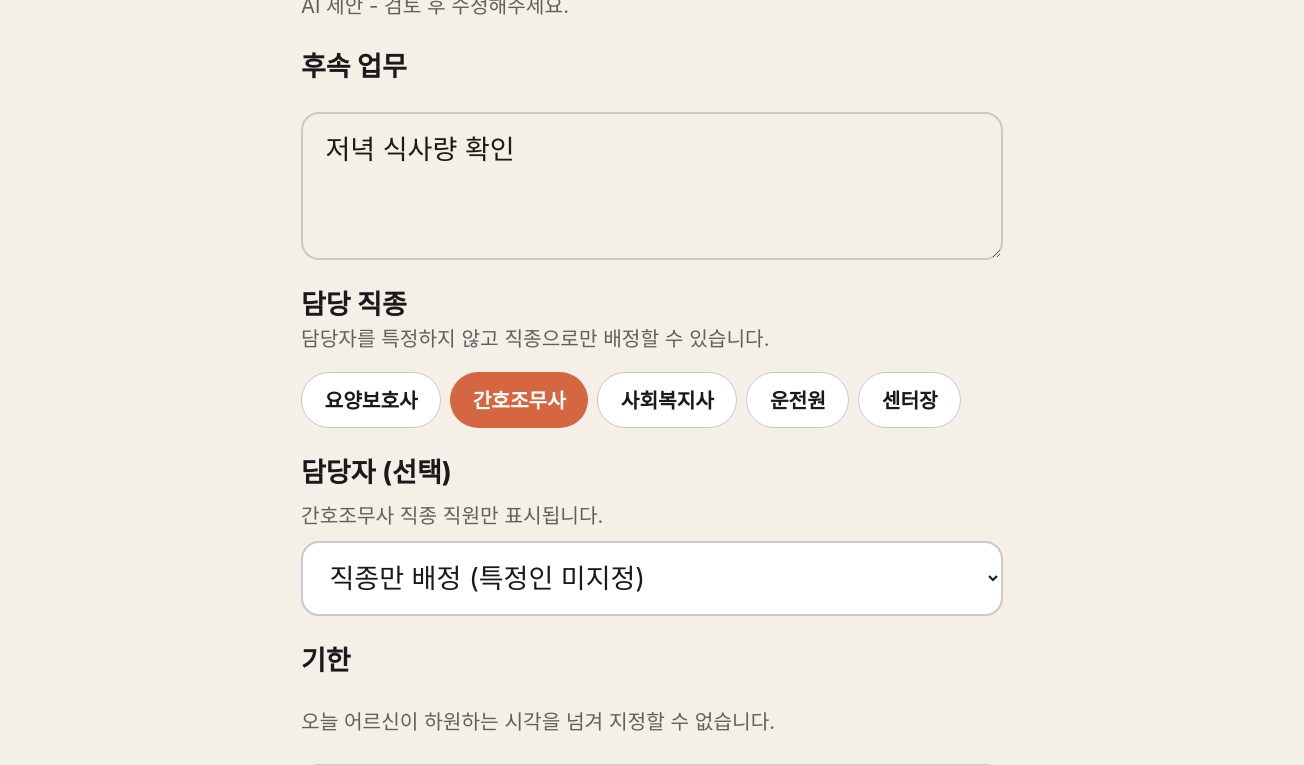
후속 업무 배정 (n26 → n27 · n28 · n29 · n30) › 직종을 바꾸면 해당 직종의 직원 목록으로 바뀌고 직원을 골라 배정할 수 있다
(page scrolled)
# 요양보호사 버튼 클릭
Click the button "요양보호사". click: (371, 400)
box: [301,372,441,428]
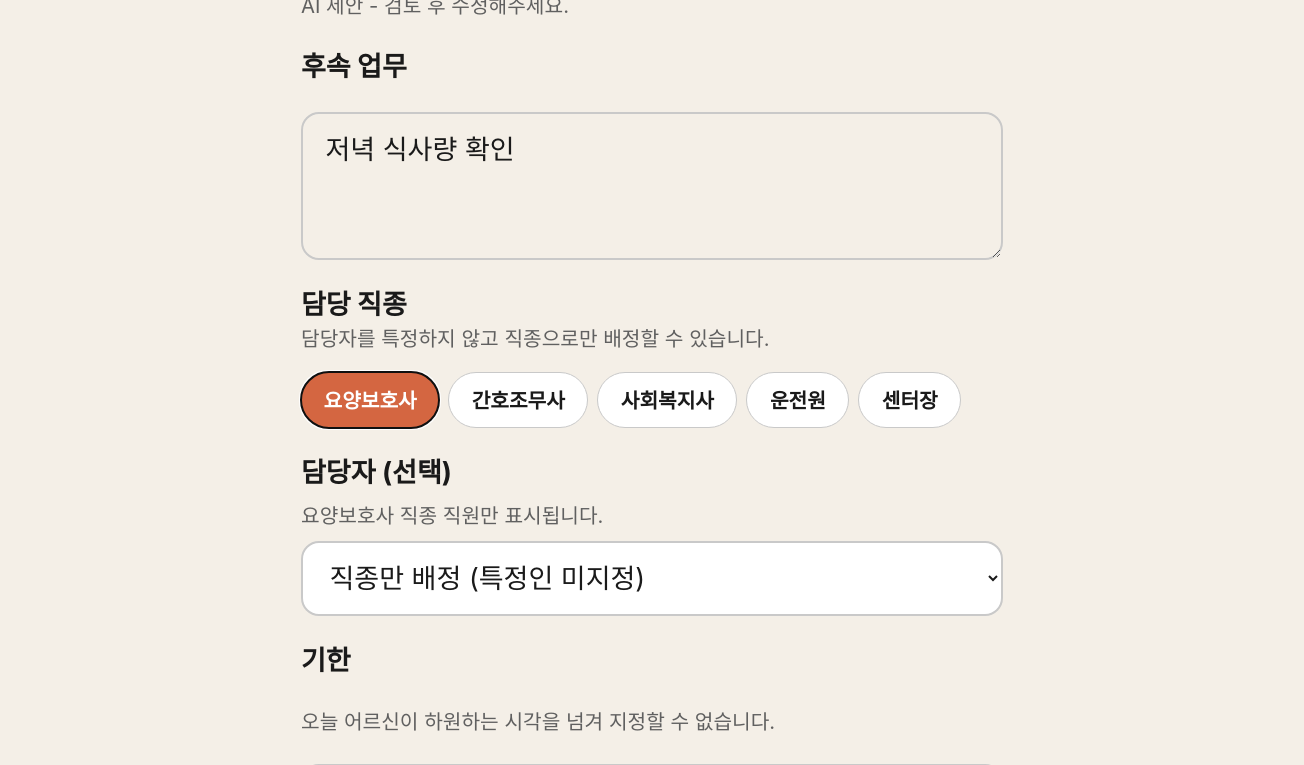
Select "김하늘 (ST-001)" in the dropdown labelled "담당자 (선택)". click: (652, 578)
box: [301,541,1003,616]
(page scrolled)
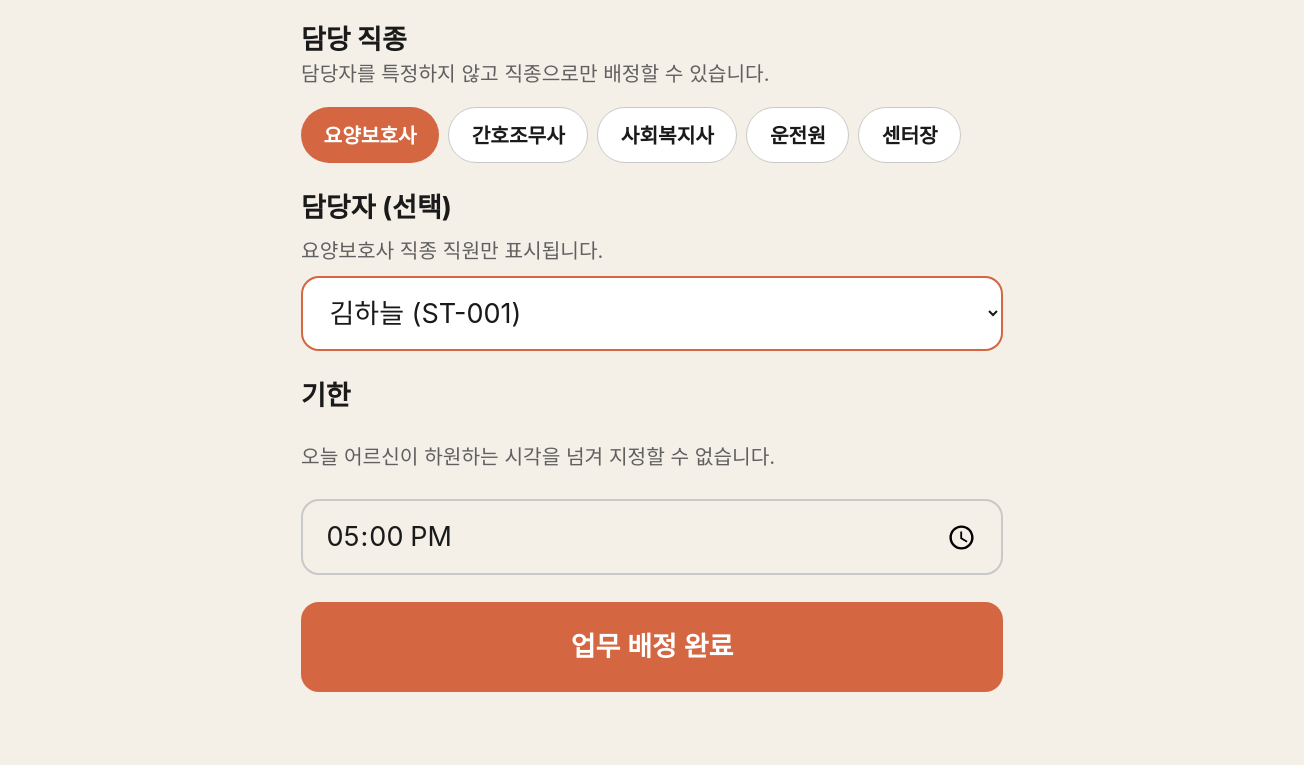
Click the button "업무 배정 완료". click: (652, 647)
box: [301,602,1003,692]
(page scrolled)
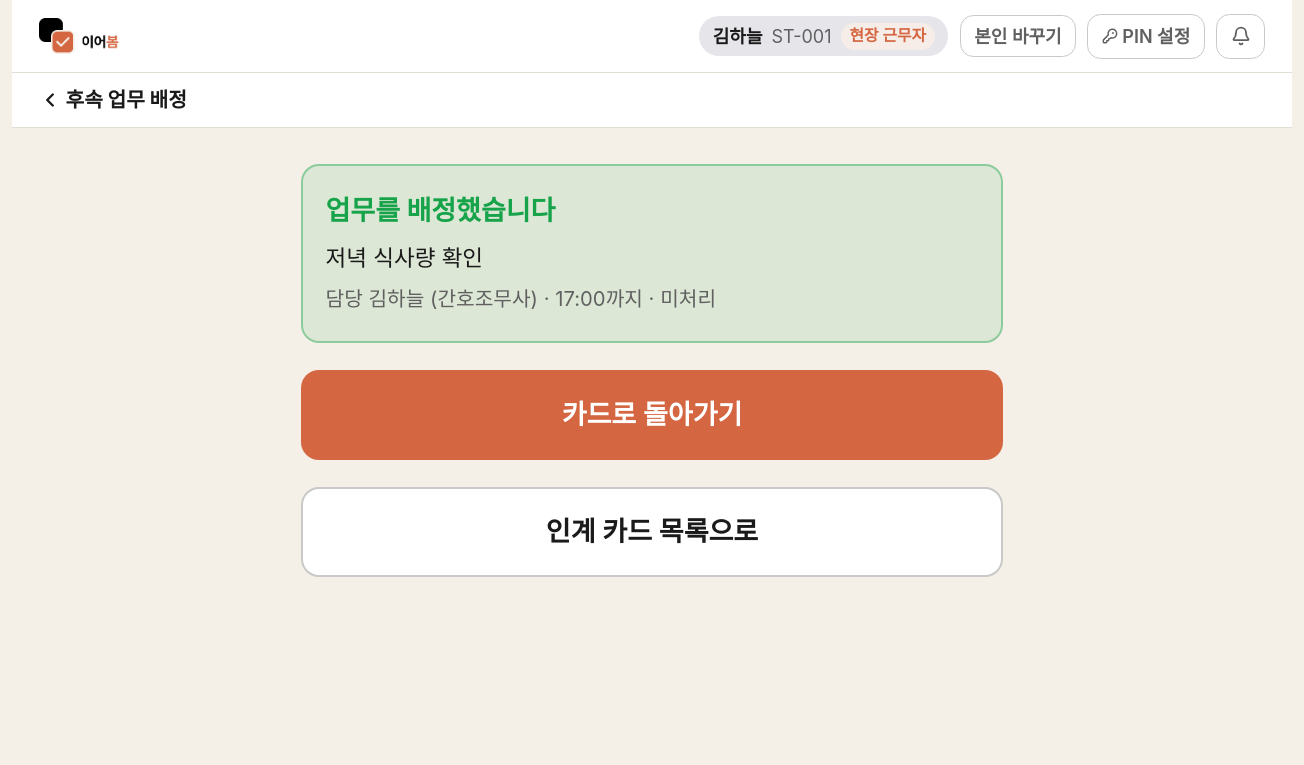
Expected: the heading "업무를 배정했습니다" is shown, [326,194,556,227]
Expected: the text "담당 김하늘 (간호조무사) · 17:00까지 · 미처리" is shown, [326,286,716,311]
